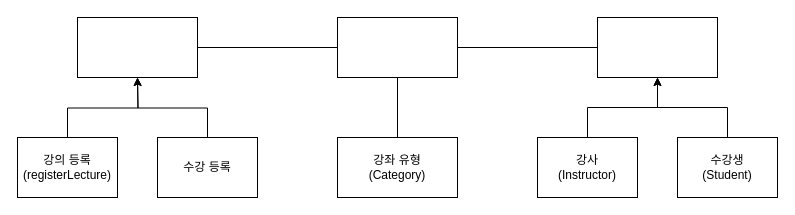
Image size: 795x215. Some labels were removed from this diagram. Each missing label, with the centre of its shape:
"강의 (Lecture)" belongs at point (137, 47).
"강좌 (Course)" belongs at point (397, 47).
"사용자 (User)" belongs at point (657, 47).
